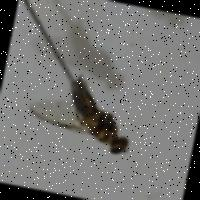Oriental-fruit-fly: (19, 58, 146, 162)
